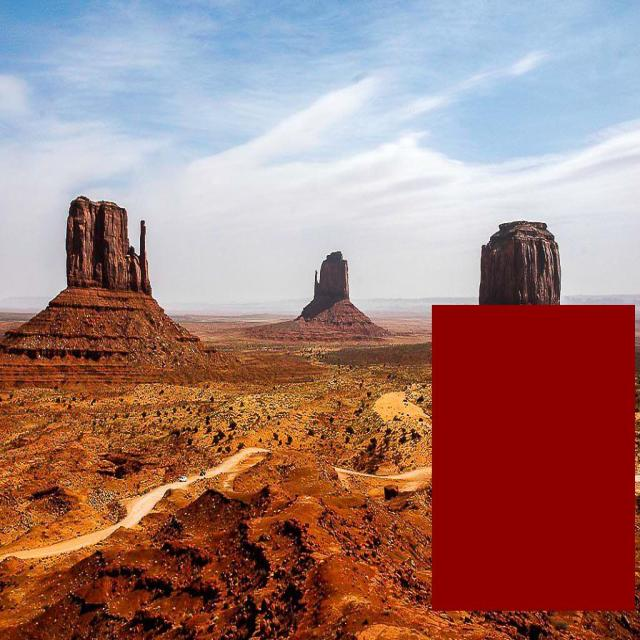RedSquare: (428, 301, 638, 619)
